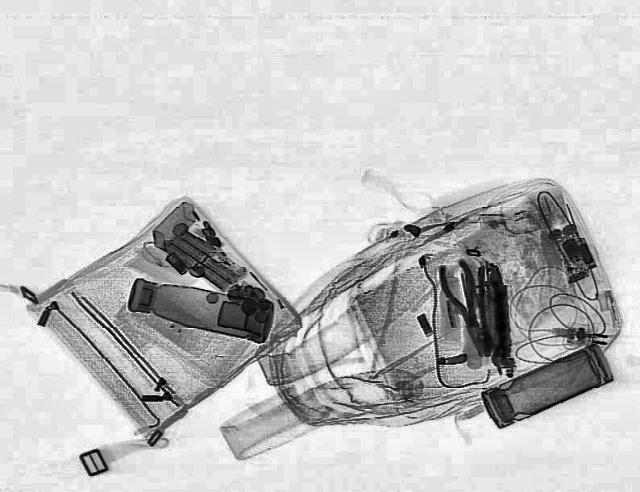Pliers: (434, 258, 500, 356)
